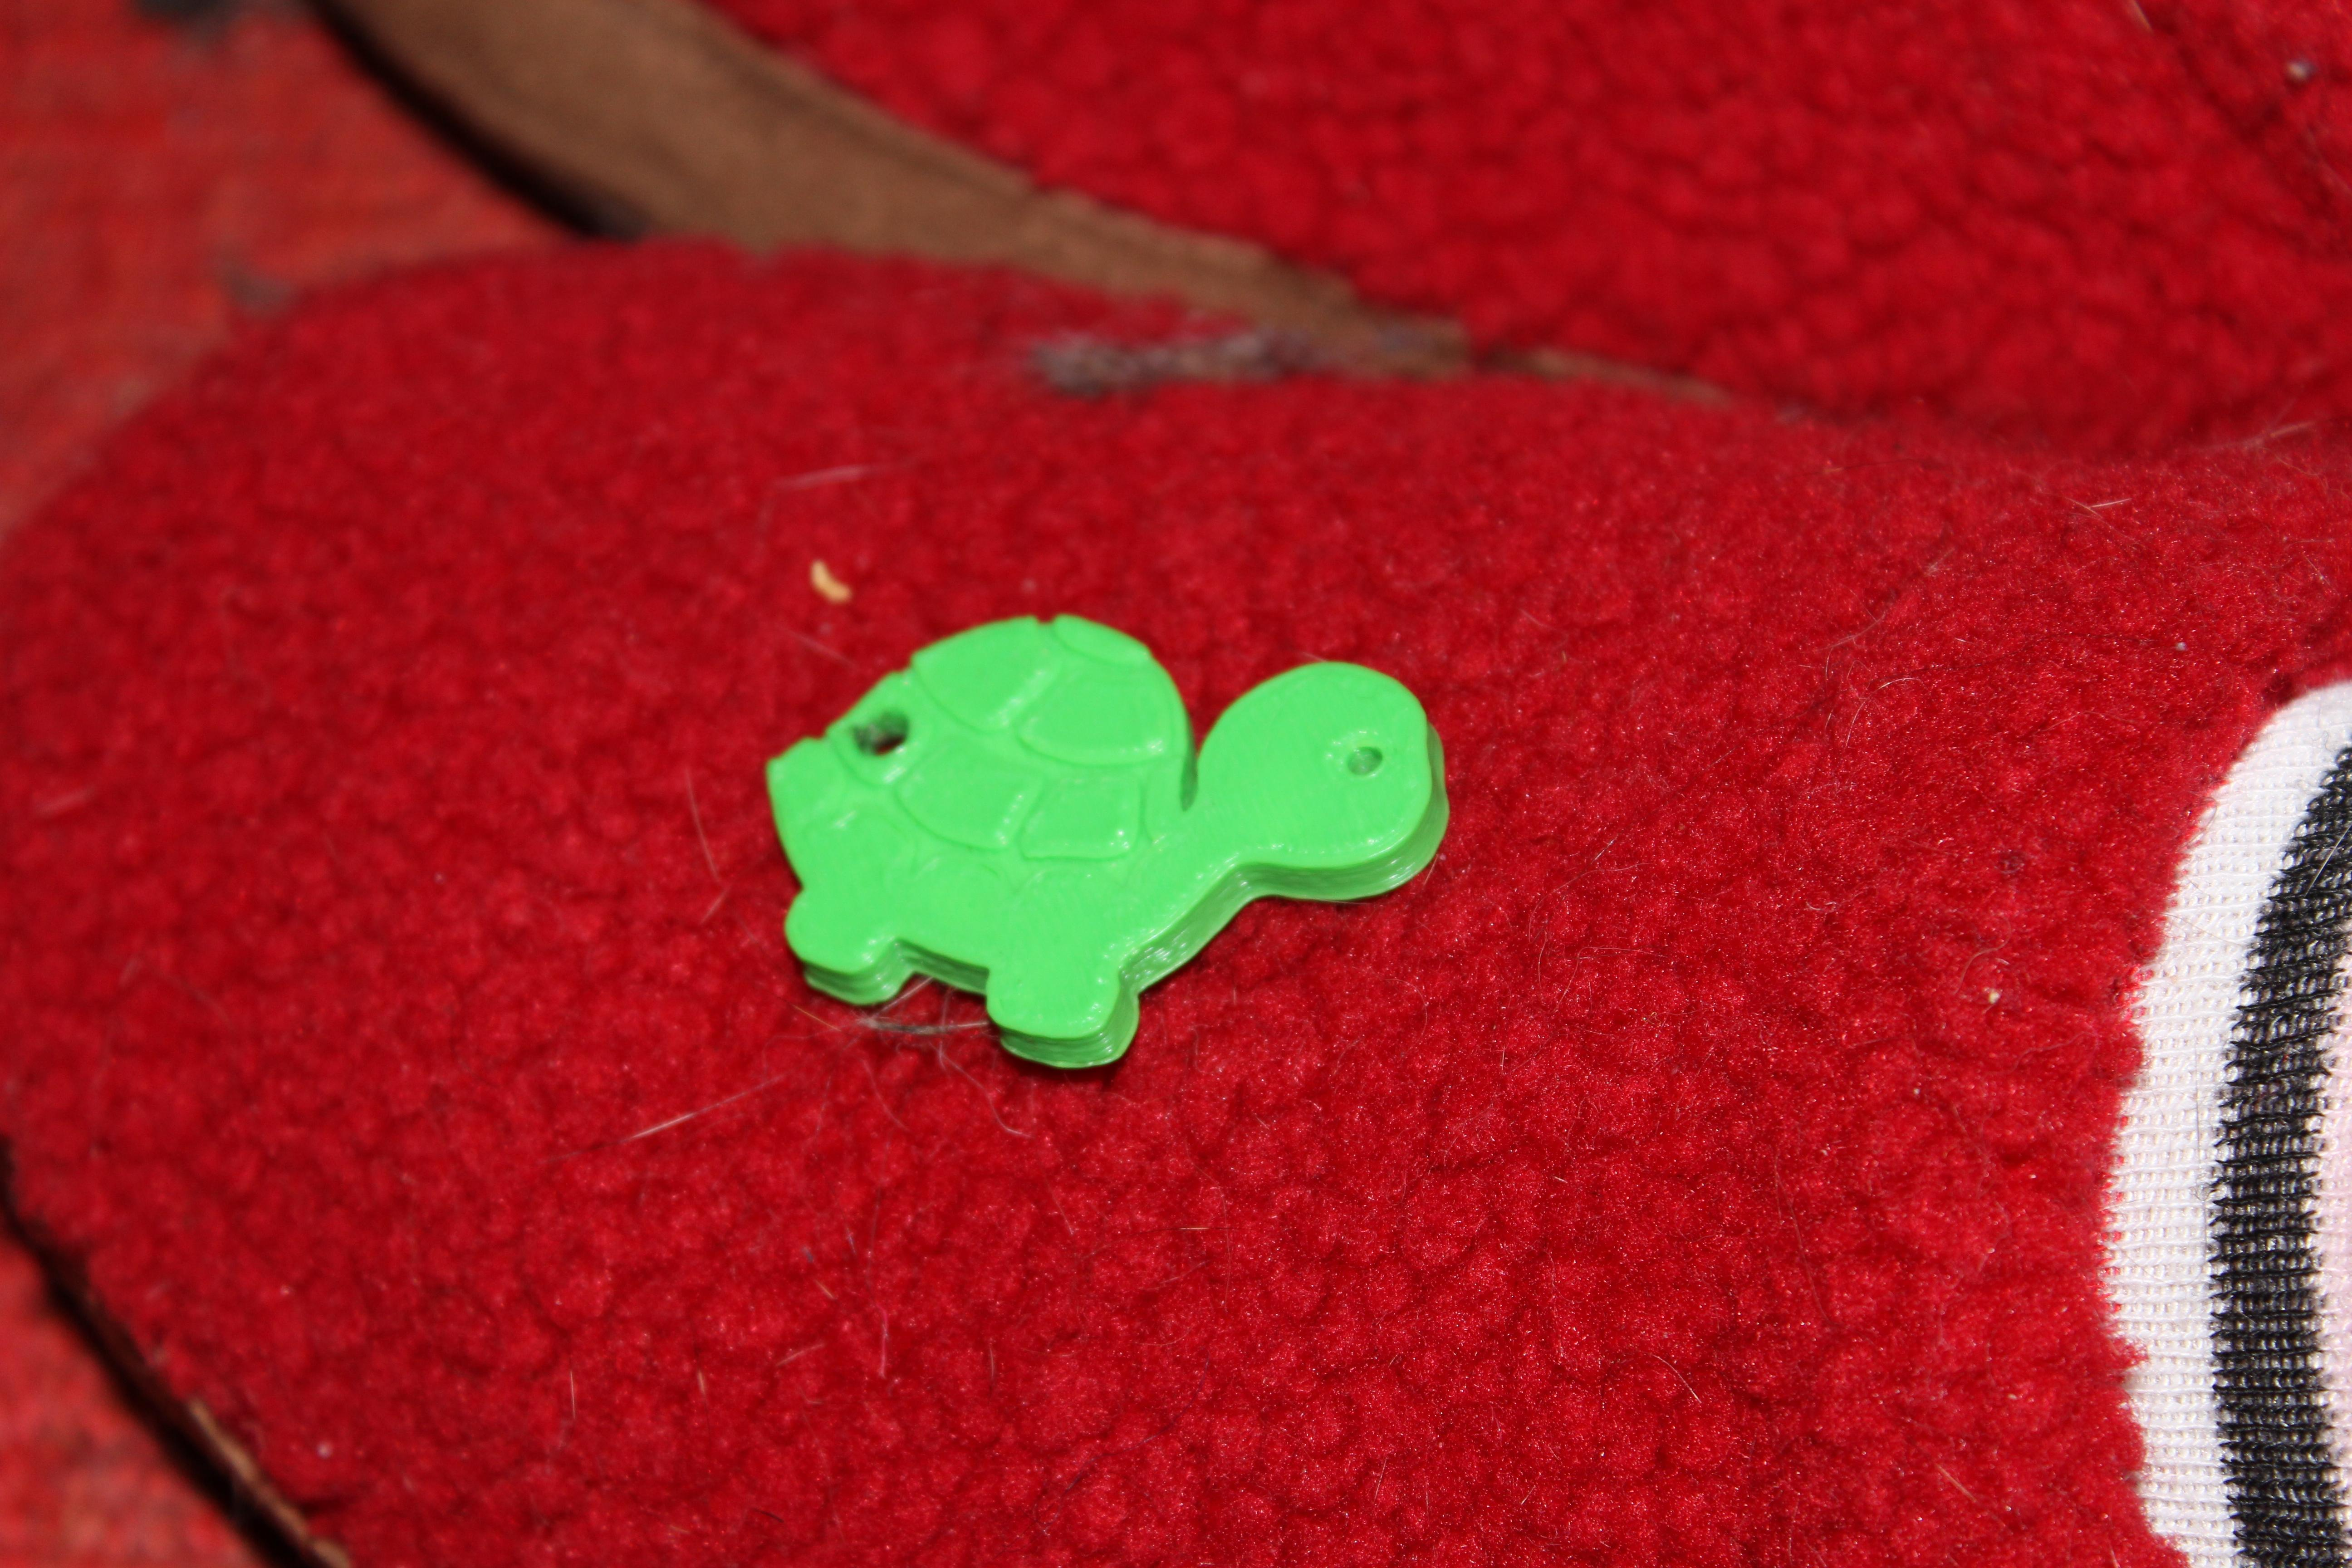turtle: (719, 563, 1507, 1111)
